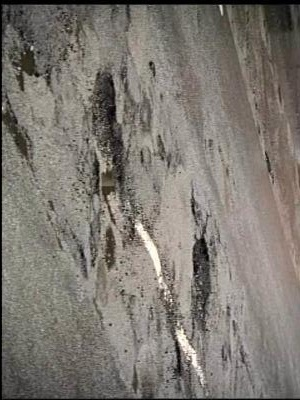pothole: (87, 70, 141, 248), (187, 234, 212, 333), (1, 91, 34, 164), (5, 27, 41, 92)
